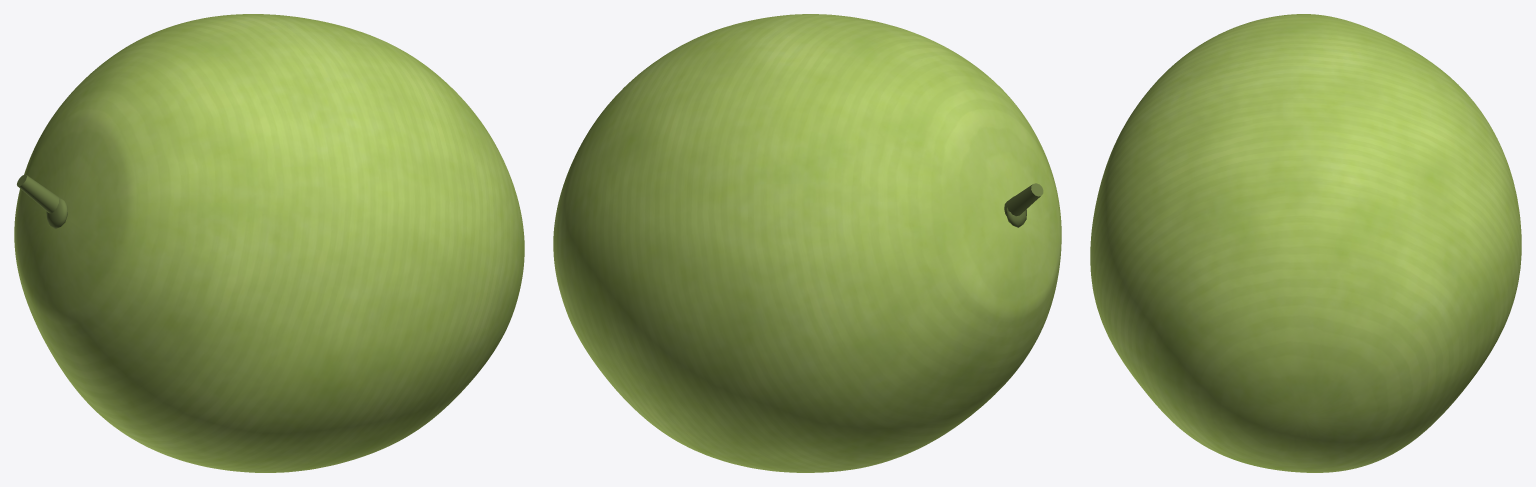
The model's file is greenGrape.glb.
The picture shows the model from 3 angles, left to right: view 1: azimuth 30°, elevation 25°; view 2: azimuth 150°, elevation 25°; view 3: azimuth 270°, elevation 25°; orthographic projection. The views are drawn at different scales.
Visible parts, largest first — view 1: greenGrape; view 2: greenGrape; view 3: greenGrape.
Boxes of the visible parts, bbox=[...] form: greenGrape: bbox=[14, 14, 524, 472]; greenGrape: bbox=[553, 14, 1061, 472]; greenGrape: bbox=[1090, 14, 1521, 472].
Size of the model in its own units: 2 by 1.74 by 1.74.
2 materials, 1 textured.
